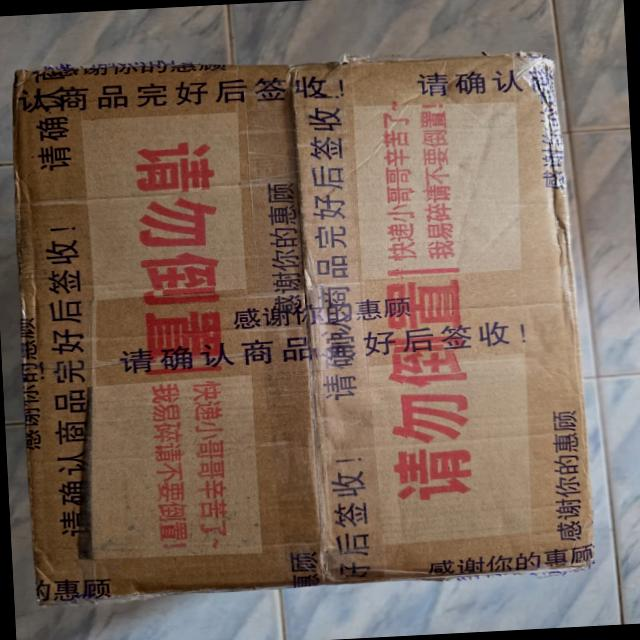carton_box: (0, 34, 610, 609)
